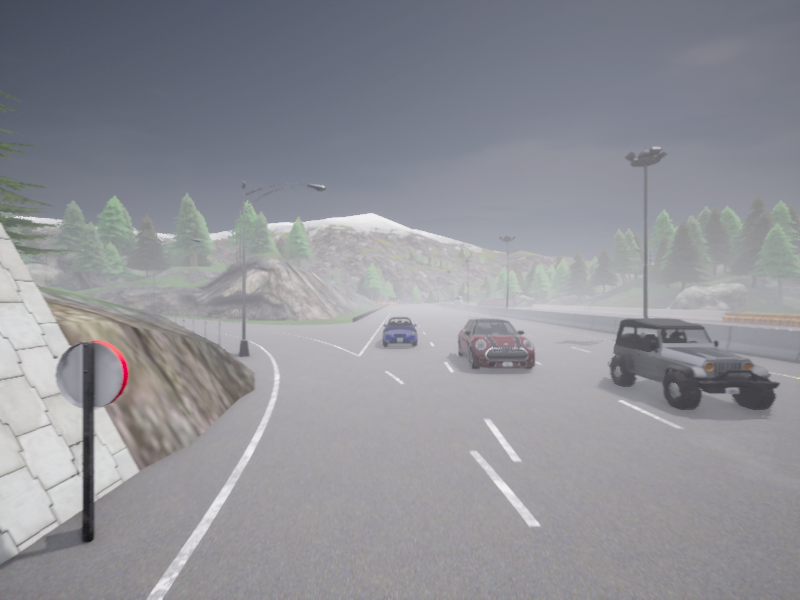vehicle: (608, 318, 779, 408), (457, 317, 534, 368), (383, 317, 416, 346), (455, 297, 463, 303)
